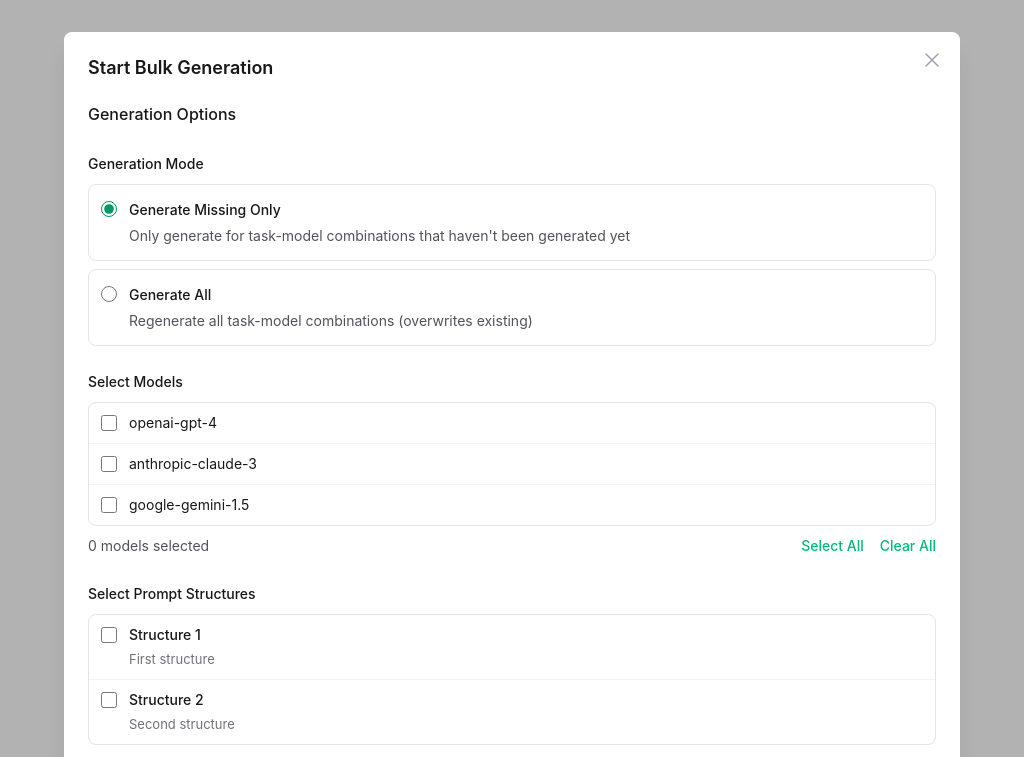
Scenario: GenerationControlModal › Structure Selection › calculates total generations correctly with structures
The image size is (1024, 757).
Expected: the text "Structure 1" is shown, [129, 626, 201, 643]
Click the checkbox labelled "openai-gpt-4".
click(109, 423)  # box [101, 415, 117, 431]
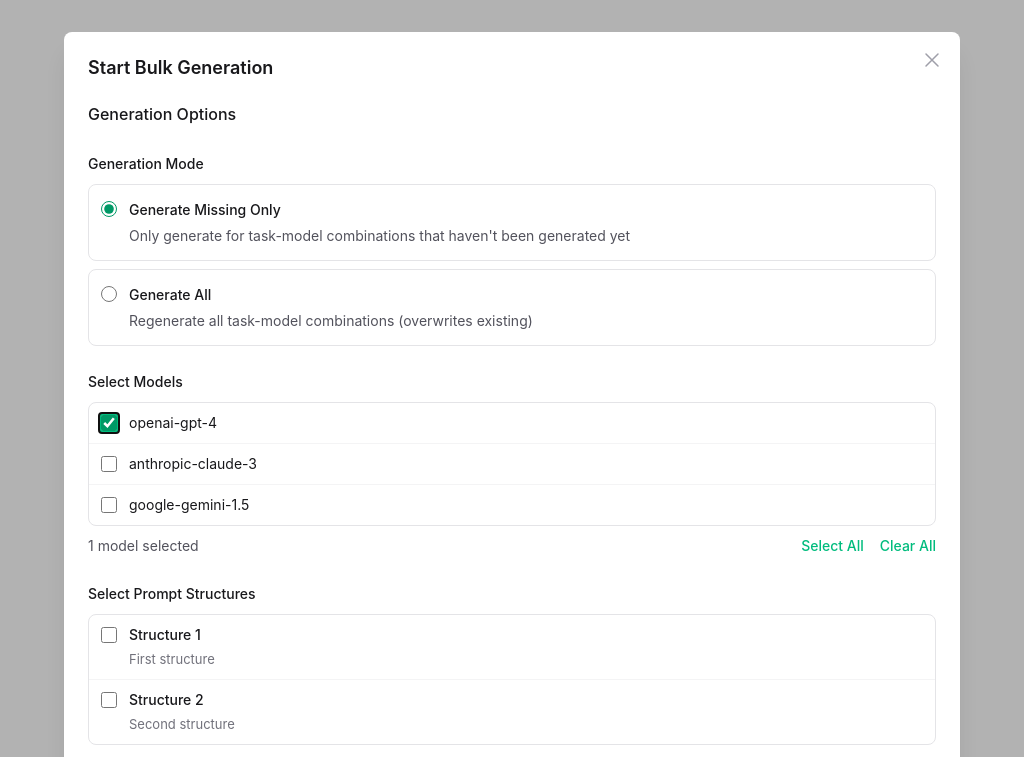
Click the checkbox labelled "anthropic-claude-3".
click(109, 464)  # box [101, 456, 117, 472]
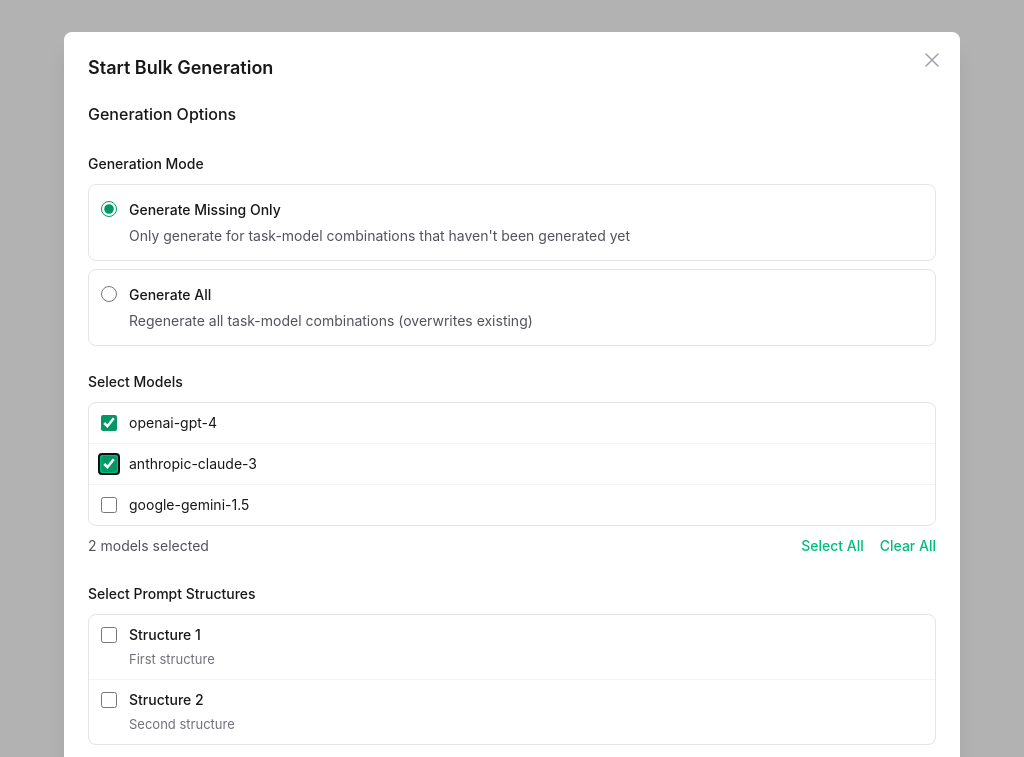
Click the checkbox with id "structure-structure1".
click(109, 635)  # box [101, 627, 117, 643]
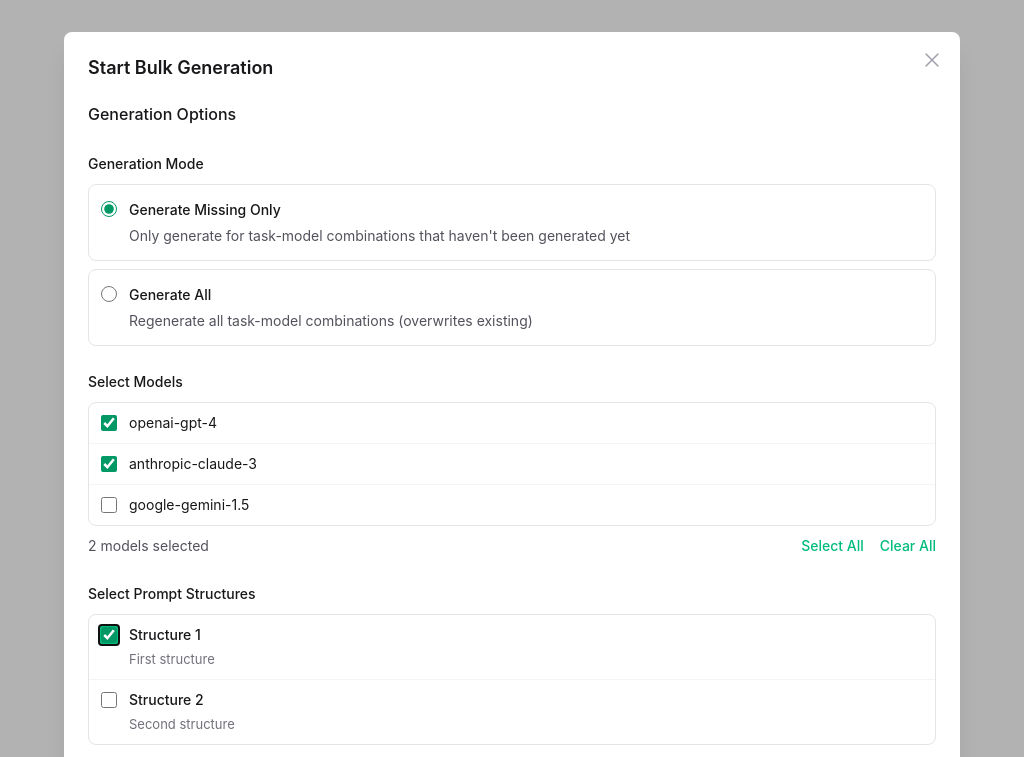
Click the checkbox with id "structure-structure2".
click(109, 700)  # box [101, 692, 117, 708]
(page scrolled)
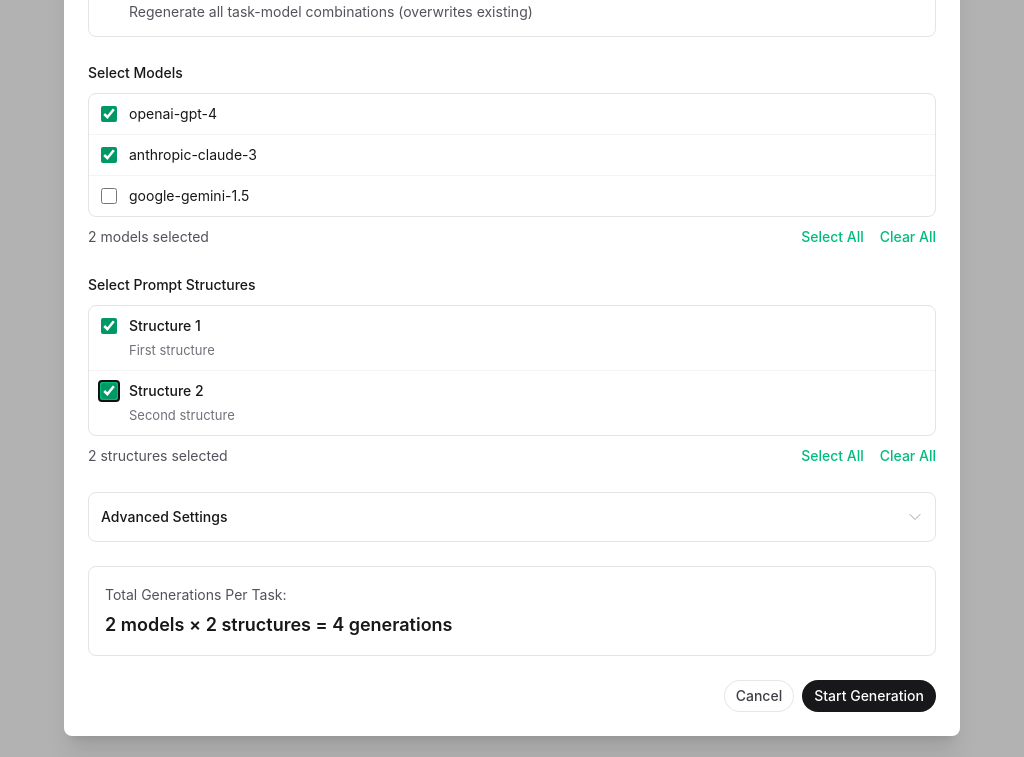
Expected: the text "2 models × 2 structures = 4 generations" is shown, [105, 614, 452, 635]
